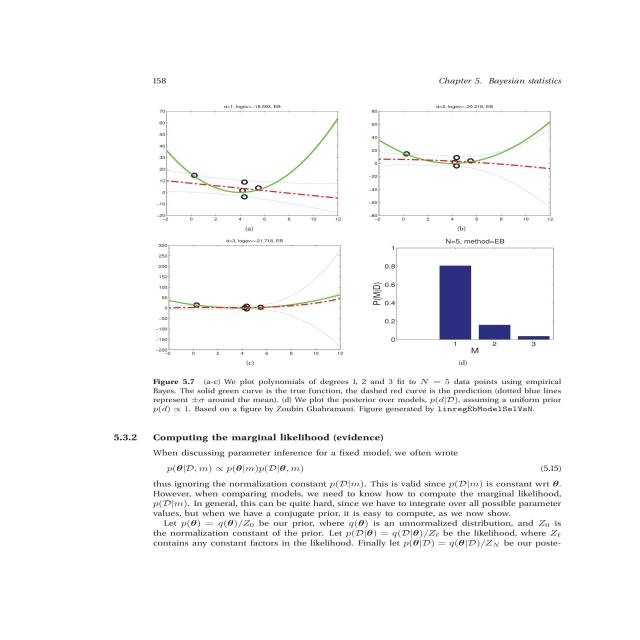diagram: (95, 241, 591, 426), (138, 90, 562, 248)
